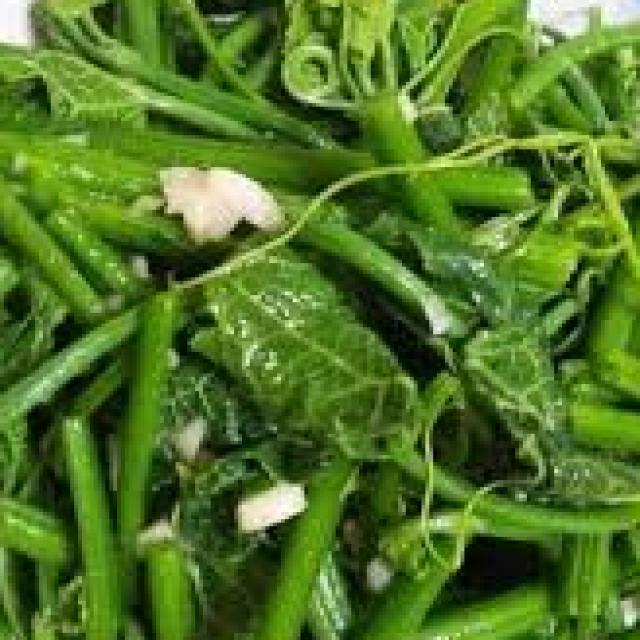inorganic: (4, 8, 632, 632)
